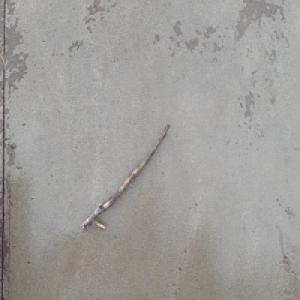Wood: (80, 121, 172, 231)
